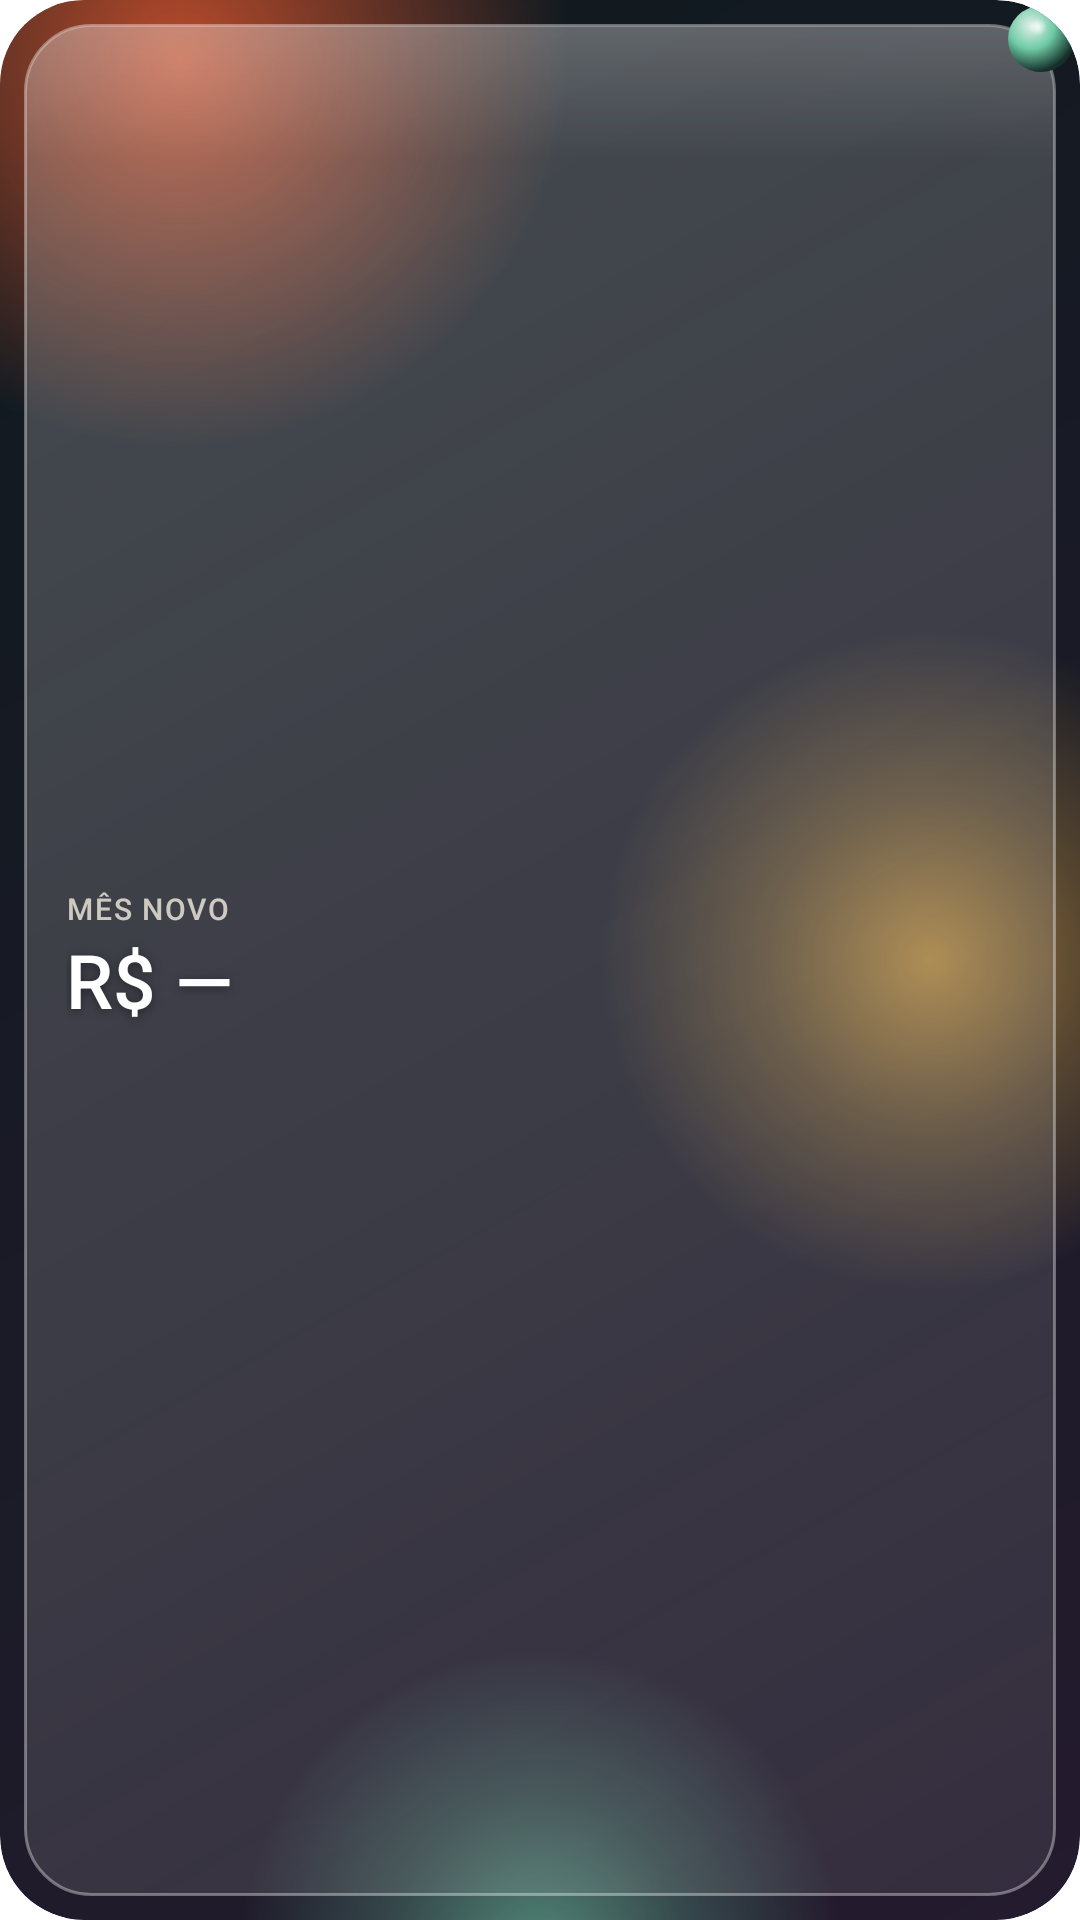

Where to tap for icons on this 1080 x 1920 app screen, as point (x, y):
home widget orb: point (1041, 39)
